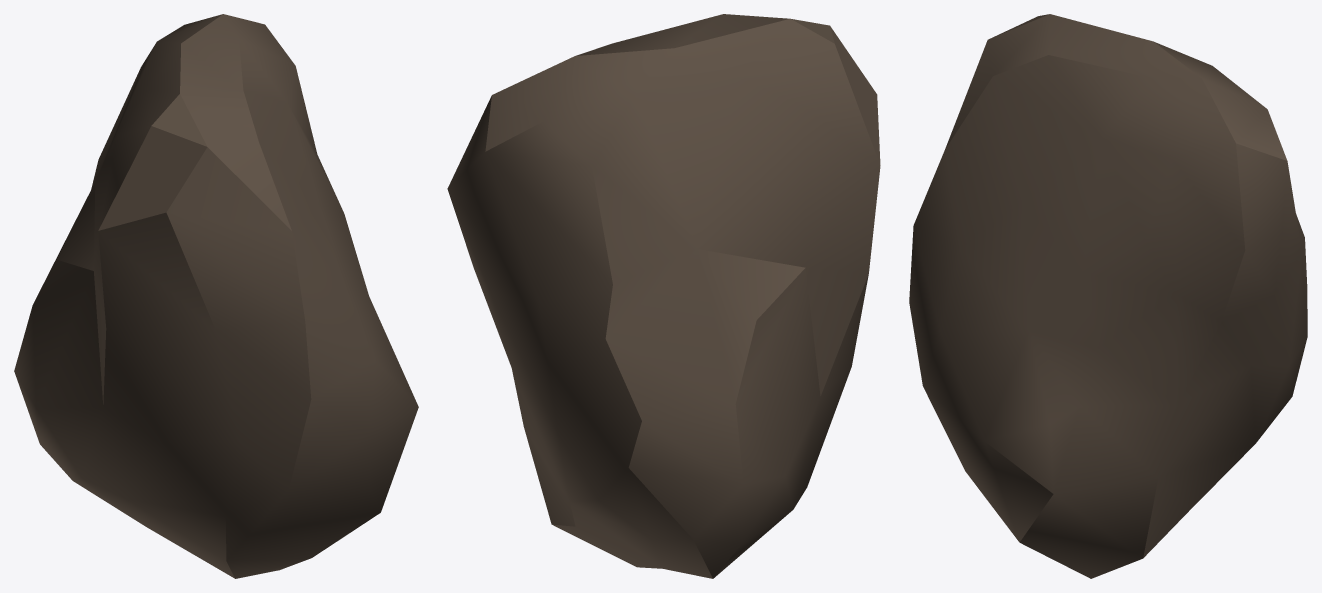
File: rock_001.fbx
The picture shows the model from 3 angles, left to right: view 1: azimuth 30°, elevation 25°; view 2: azimuth 150°, elevation 25°; view 3: azimuth 270°, elevation 25°; orthographic projection. The views are drawn at different scales.
Parts seen in each view (by area): view 1: rock.001; view 2: rock.001; view 3: rock.001.
Part boxes in pixels (left/top/right/bottom): rock.001: left=14, top=14, right=418, bottom=578; rock.001: left=447, top=14, right=880, bottom=578; rock.001: left=909, top=14, right=1307, bottom=578.
Bounding box in the file's own units: 71.35 × 115 × 82.09.
